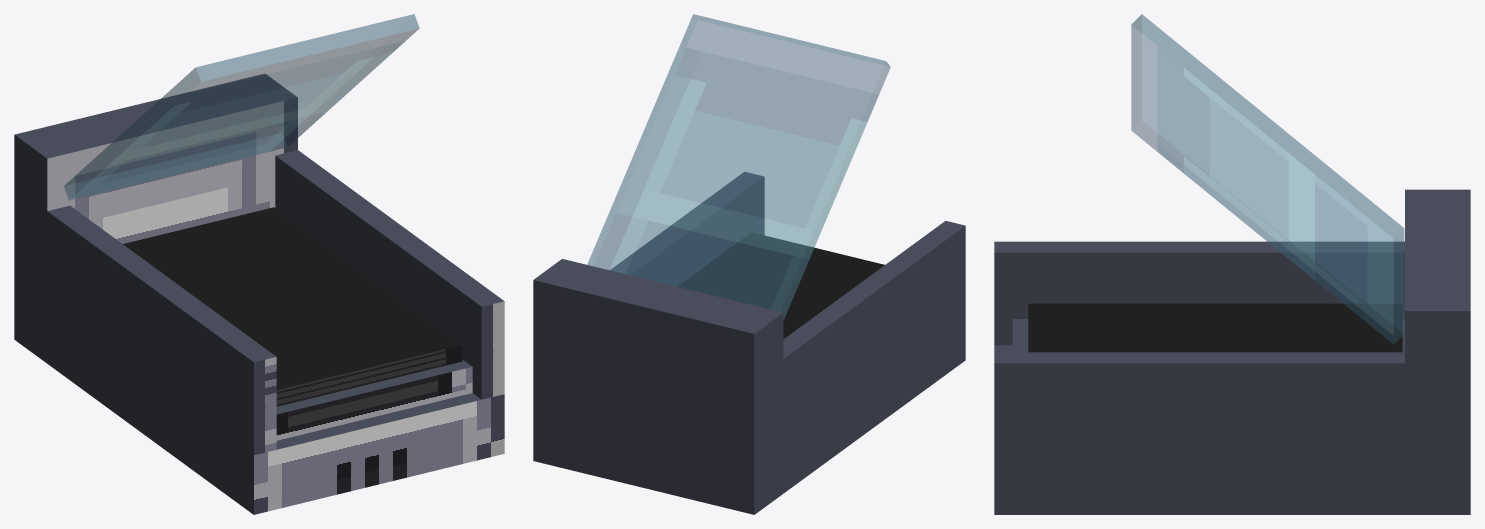
File: damaged_cryo_exhibit.glb
3 renders of one model, left to right at view 1: azimuth 30°, elevation 25°; view 2: azimuth 150°, elevation 25°; view 3: azimuth 270°, elevation 25°, orthographic. The views are drawn at different scales.
Visible parts, largest first — view 1: Open_Sleeper_Base, Recessed_Mattress, Raised_Glass_Lid; view 2: Open_Sleeper_Base, Raised_Glass_Lid, Recessed_Mattress; view 3: Open_Sleeper_Base, Raised_Glass_Lid, Recessed_Mattress.
Part boxes in pixels (x1,y1,x2,y2): Open_Sleeper_Base: (14, 73, 504, 514); Recessed_Mattress: (123, 207, 462, 406); Raised_Glass_Lid: (64, 14, 419, 200); Open_Sleeper_Base: (533, 172, 965, 514); Raised_Glass_Lid: (587, 14, 890, 320); Recessed_Mattress: (677, 232, 884, 339); Open_Sleeper_Base: (994, 189, 1470, 514); Raised_Glass_Lid: (1131, 14, 1404, 344); Recessed_Mattress: (1028, 303, 1402, 352).
Size of the model in its own units: 1.1 by 1.63 by 1.82.
Materials: 2 (2 with a texture image).
